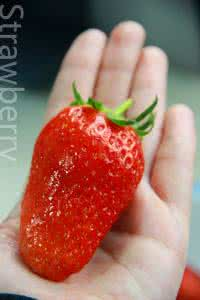strawberry: (16, 93, 158, 278)
